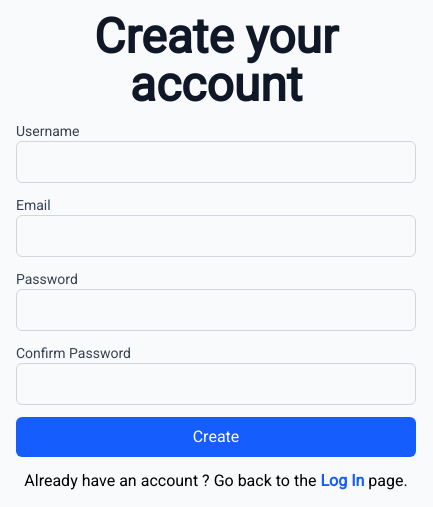
Test: redirects after fetching › SignUp redirect to LogIn after success
What coordinates should you click on to do the following:
click the button "Create"
I would click on:
 (216, 437)
Its box is [16,417,416,457].
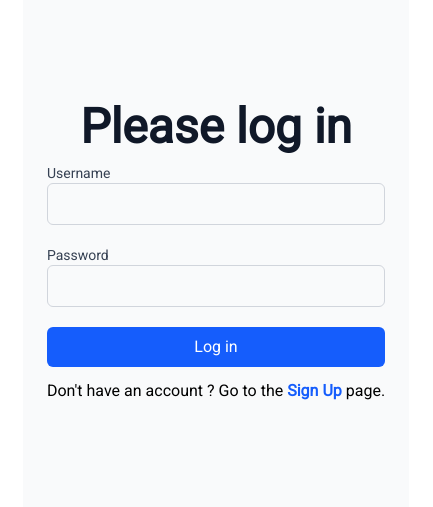
Result: the heading "Please log in" is shown at [80,98,352,155]
